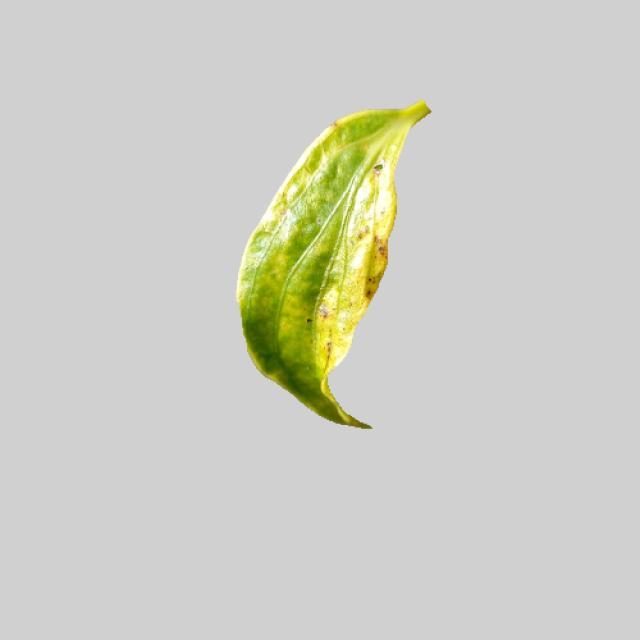yellow-mottle-virus: (230, 99, 434, 428)
